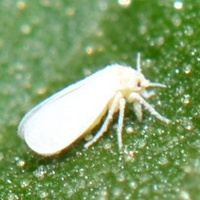insect: (18, 64, 169, 155)
